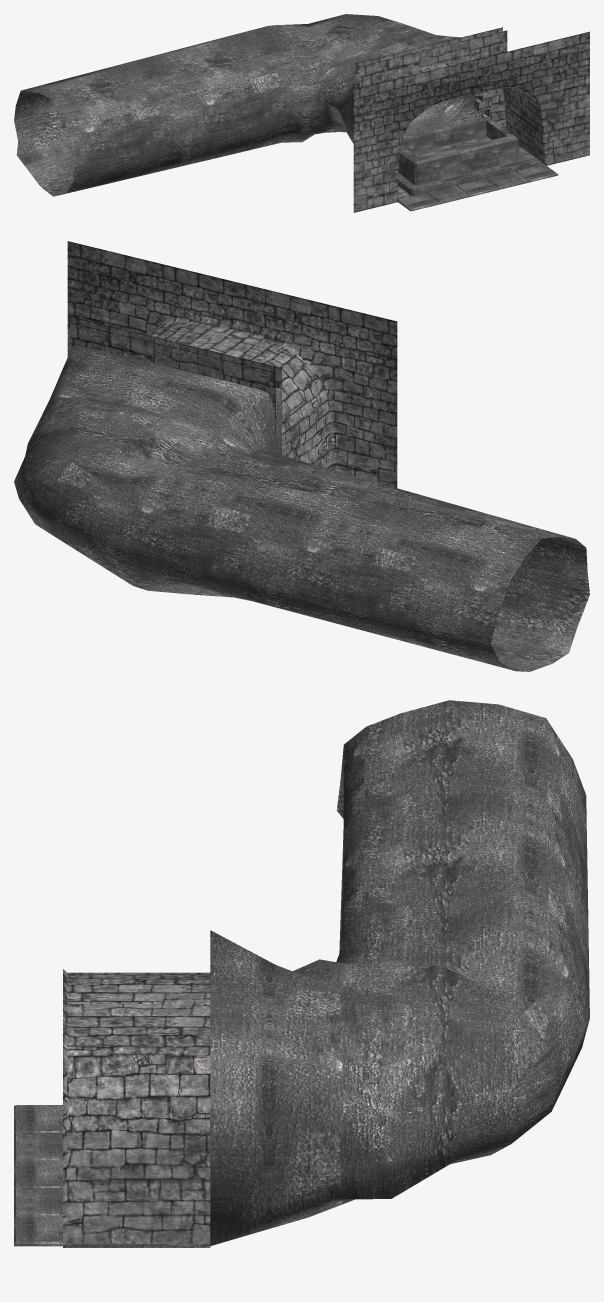
The model's file is crypt_wall_03.FBX.
3 views of the same model, one above another, from view 1: azimuth 30°, elevation 25°; view 2: azimuth 150°, elevation 25°; view 3: azimuth 270°, elevation 25° (orthographic). The views are drawn at different scales.
Parts seen in each view (by area): view 1: Box01, wallAlcove02, tomb, Object03, Object01; view 2: Box01, wallAlcove02, Object03; view 3: Box01, wallAlcove02, Object01.
Part boxes in pixels (bbox=[...]): Box01: bbox=[14, 14, 484, 196]; wallAlcove02: bbox=[353, 31, 589, 212]; tomb: bbox=[398, 117, 529, 195]; Object03: bbox=[355, 27, 507, 129]; Object01: bbox=[397, 145, 558, 211]; Box01: bbox=[14, 345, 589, 671]; wallAlcove02: bbox=[67, 241, 397, 487]; Object03: bbox=[70, 318, 281, 441]; Box01: bbox=[210, 700, 589, 1245]; wallAlcove02: bbox=[63, 969, 210, 1247]; Object01: bbox=[14, 1105, 210, 1246].
Size of the model in its own units: 972 by 563 by 269.
